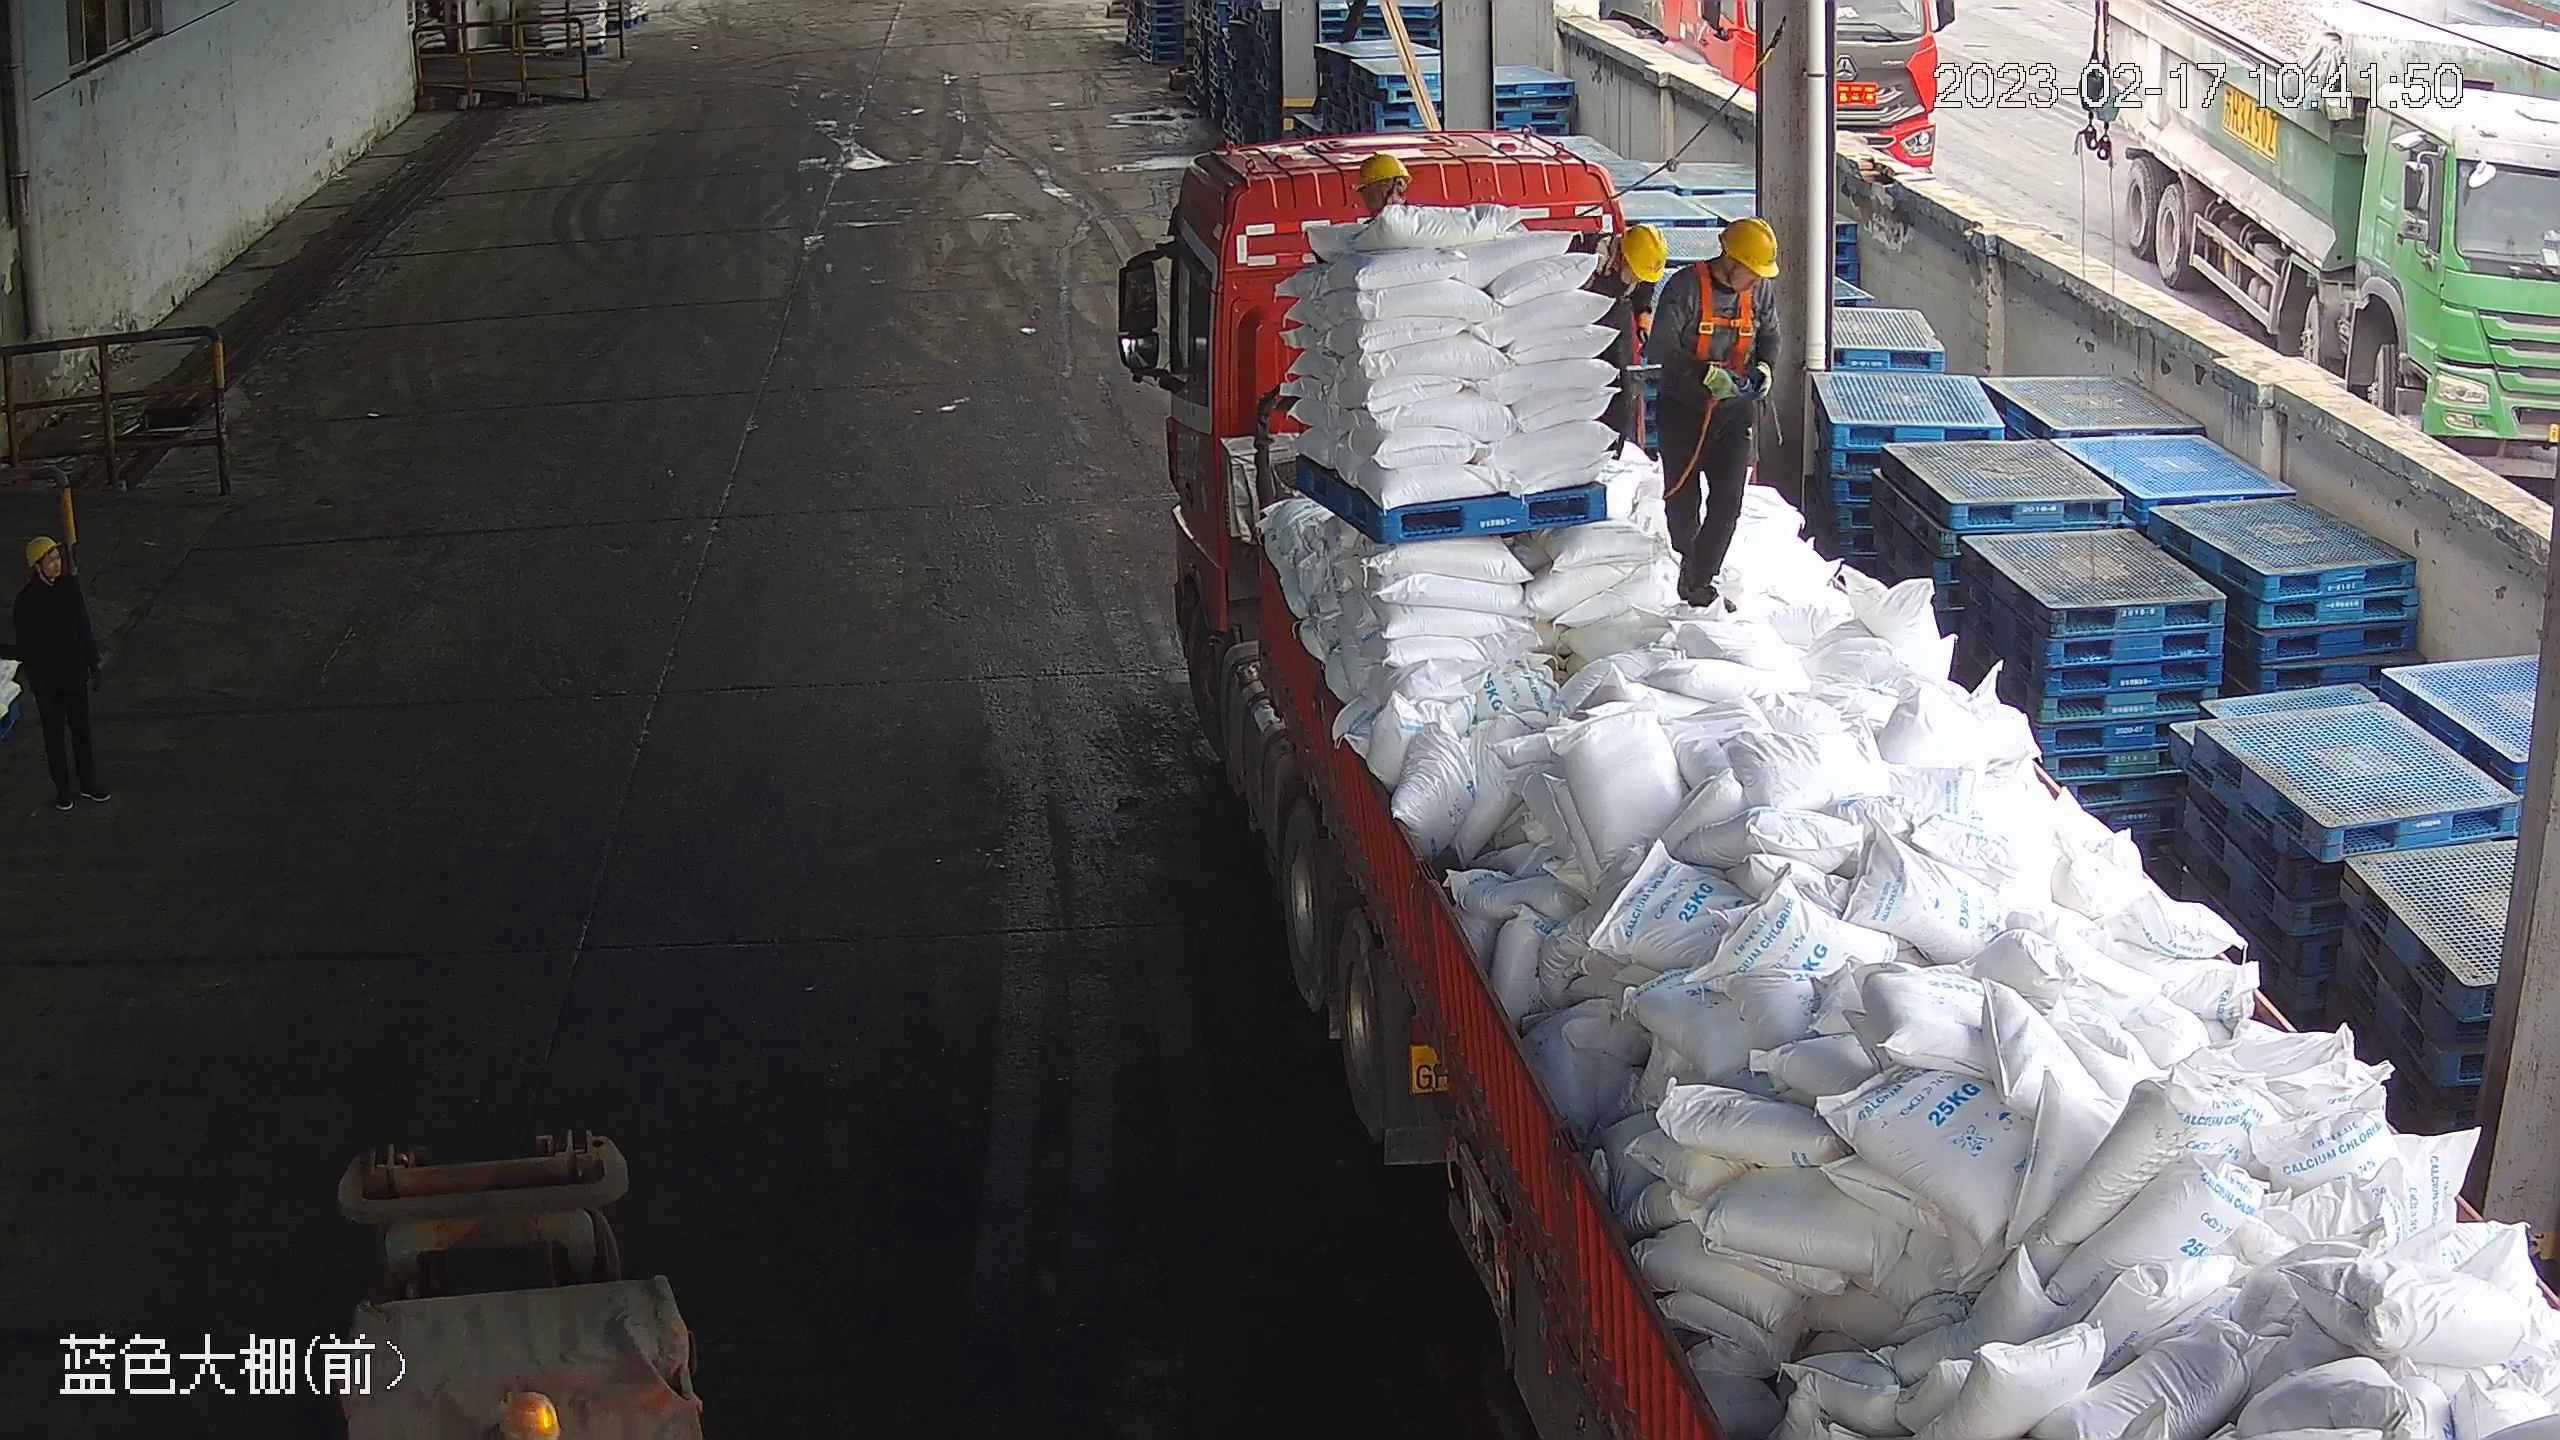belt: (1686, 271, 1764, 367)
head: (1666, 216, 1779, 329), (1586, 217, 1666, 307), (11, 534, 91, 618)
helmet: (1717, 214, 1778, 275), (1615, 221, 1667, 284), (1353, 148, 1408, 186), (23, 535, 61, 566)
people: (1650, 219, 1777, 602), (8, 532, 111, 813), (1585, 210, 1671, 466)
truck: (1117, 134, 2555, 1436)
